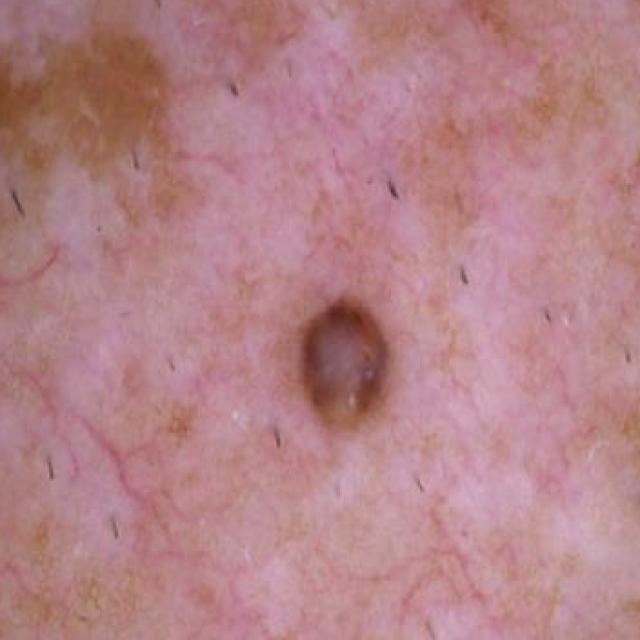NV: (280, 264, 415, 472)
